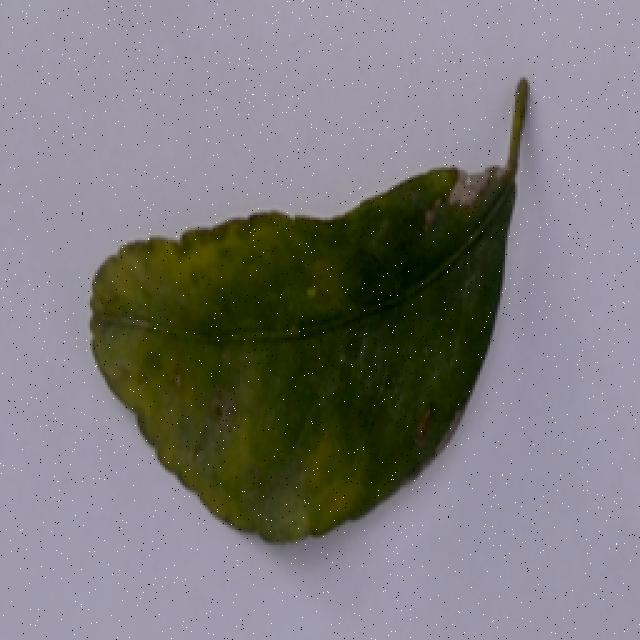blackspot: (74, 71, 546, 542)
